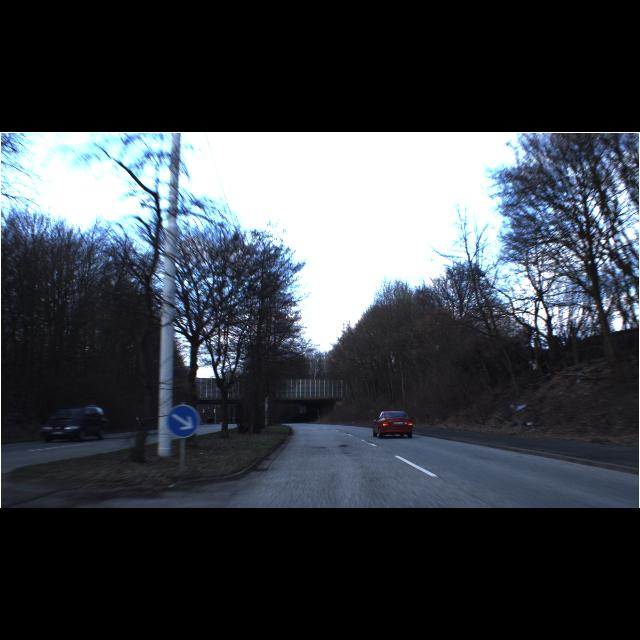mandatory: (167, 404, 199, 438)
